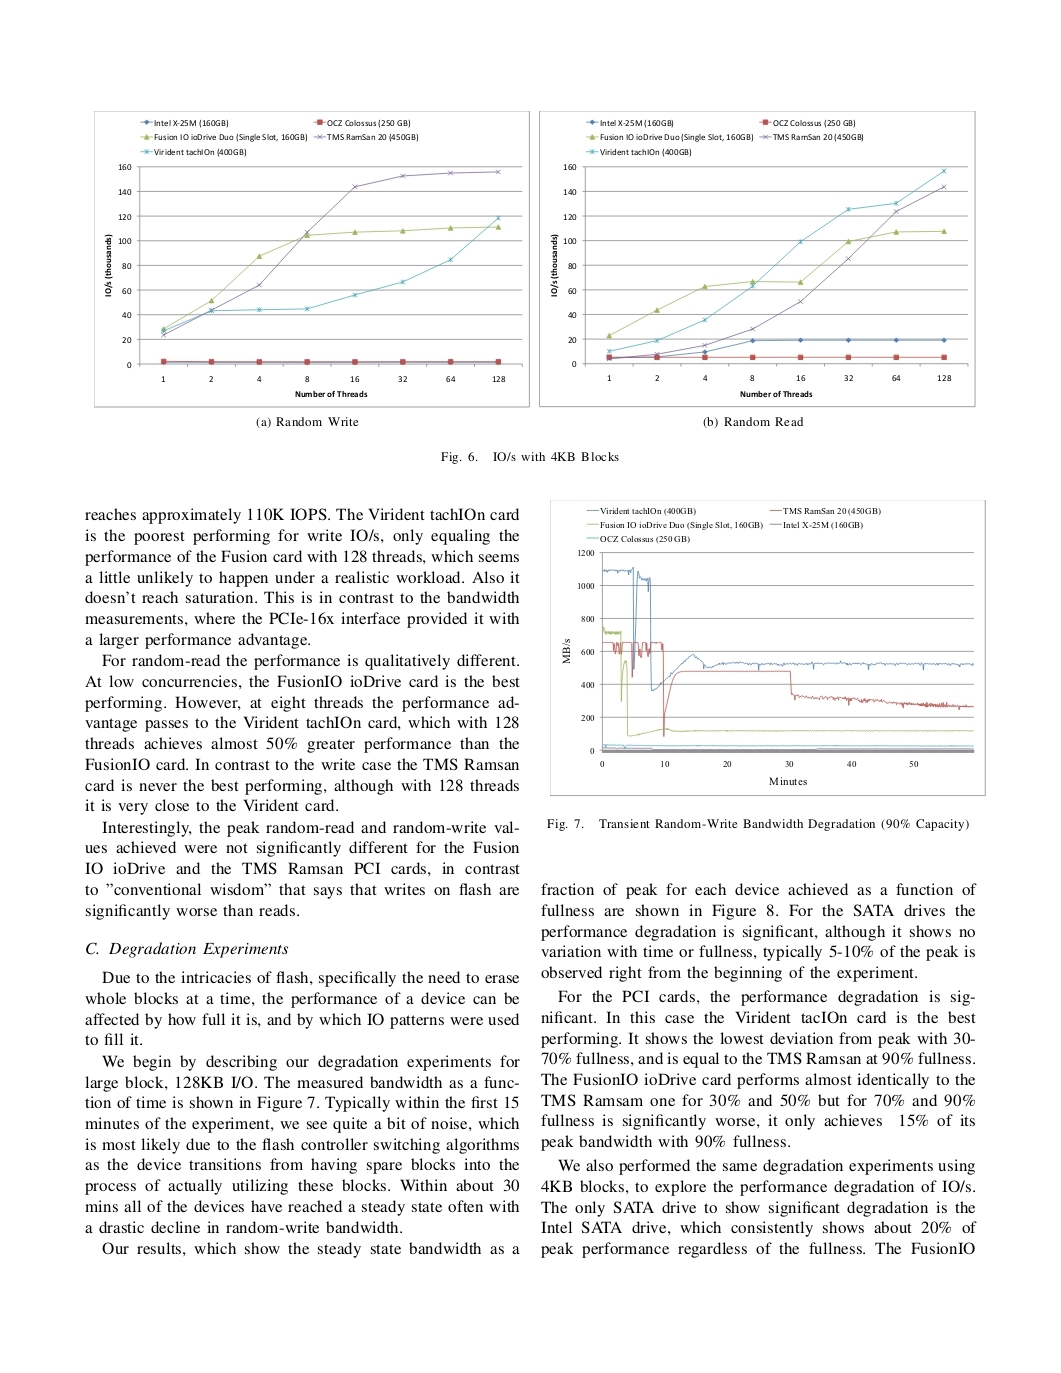figure: (94, 110, 529, 408), (539, 110, 975, 408), (549, 499, 985, 796)
